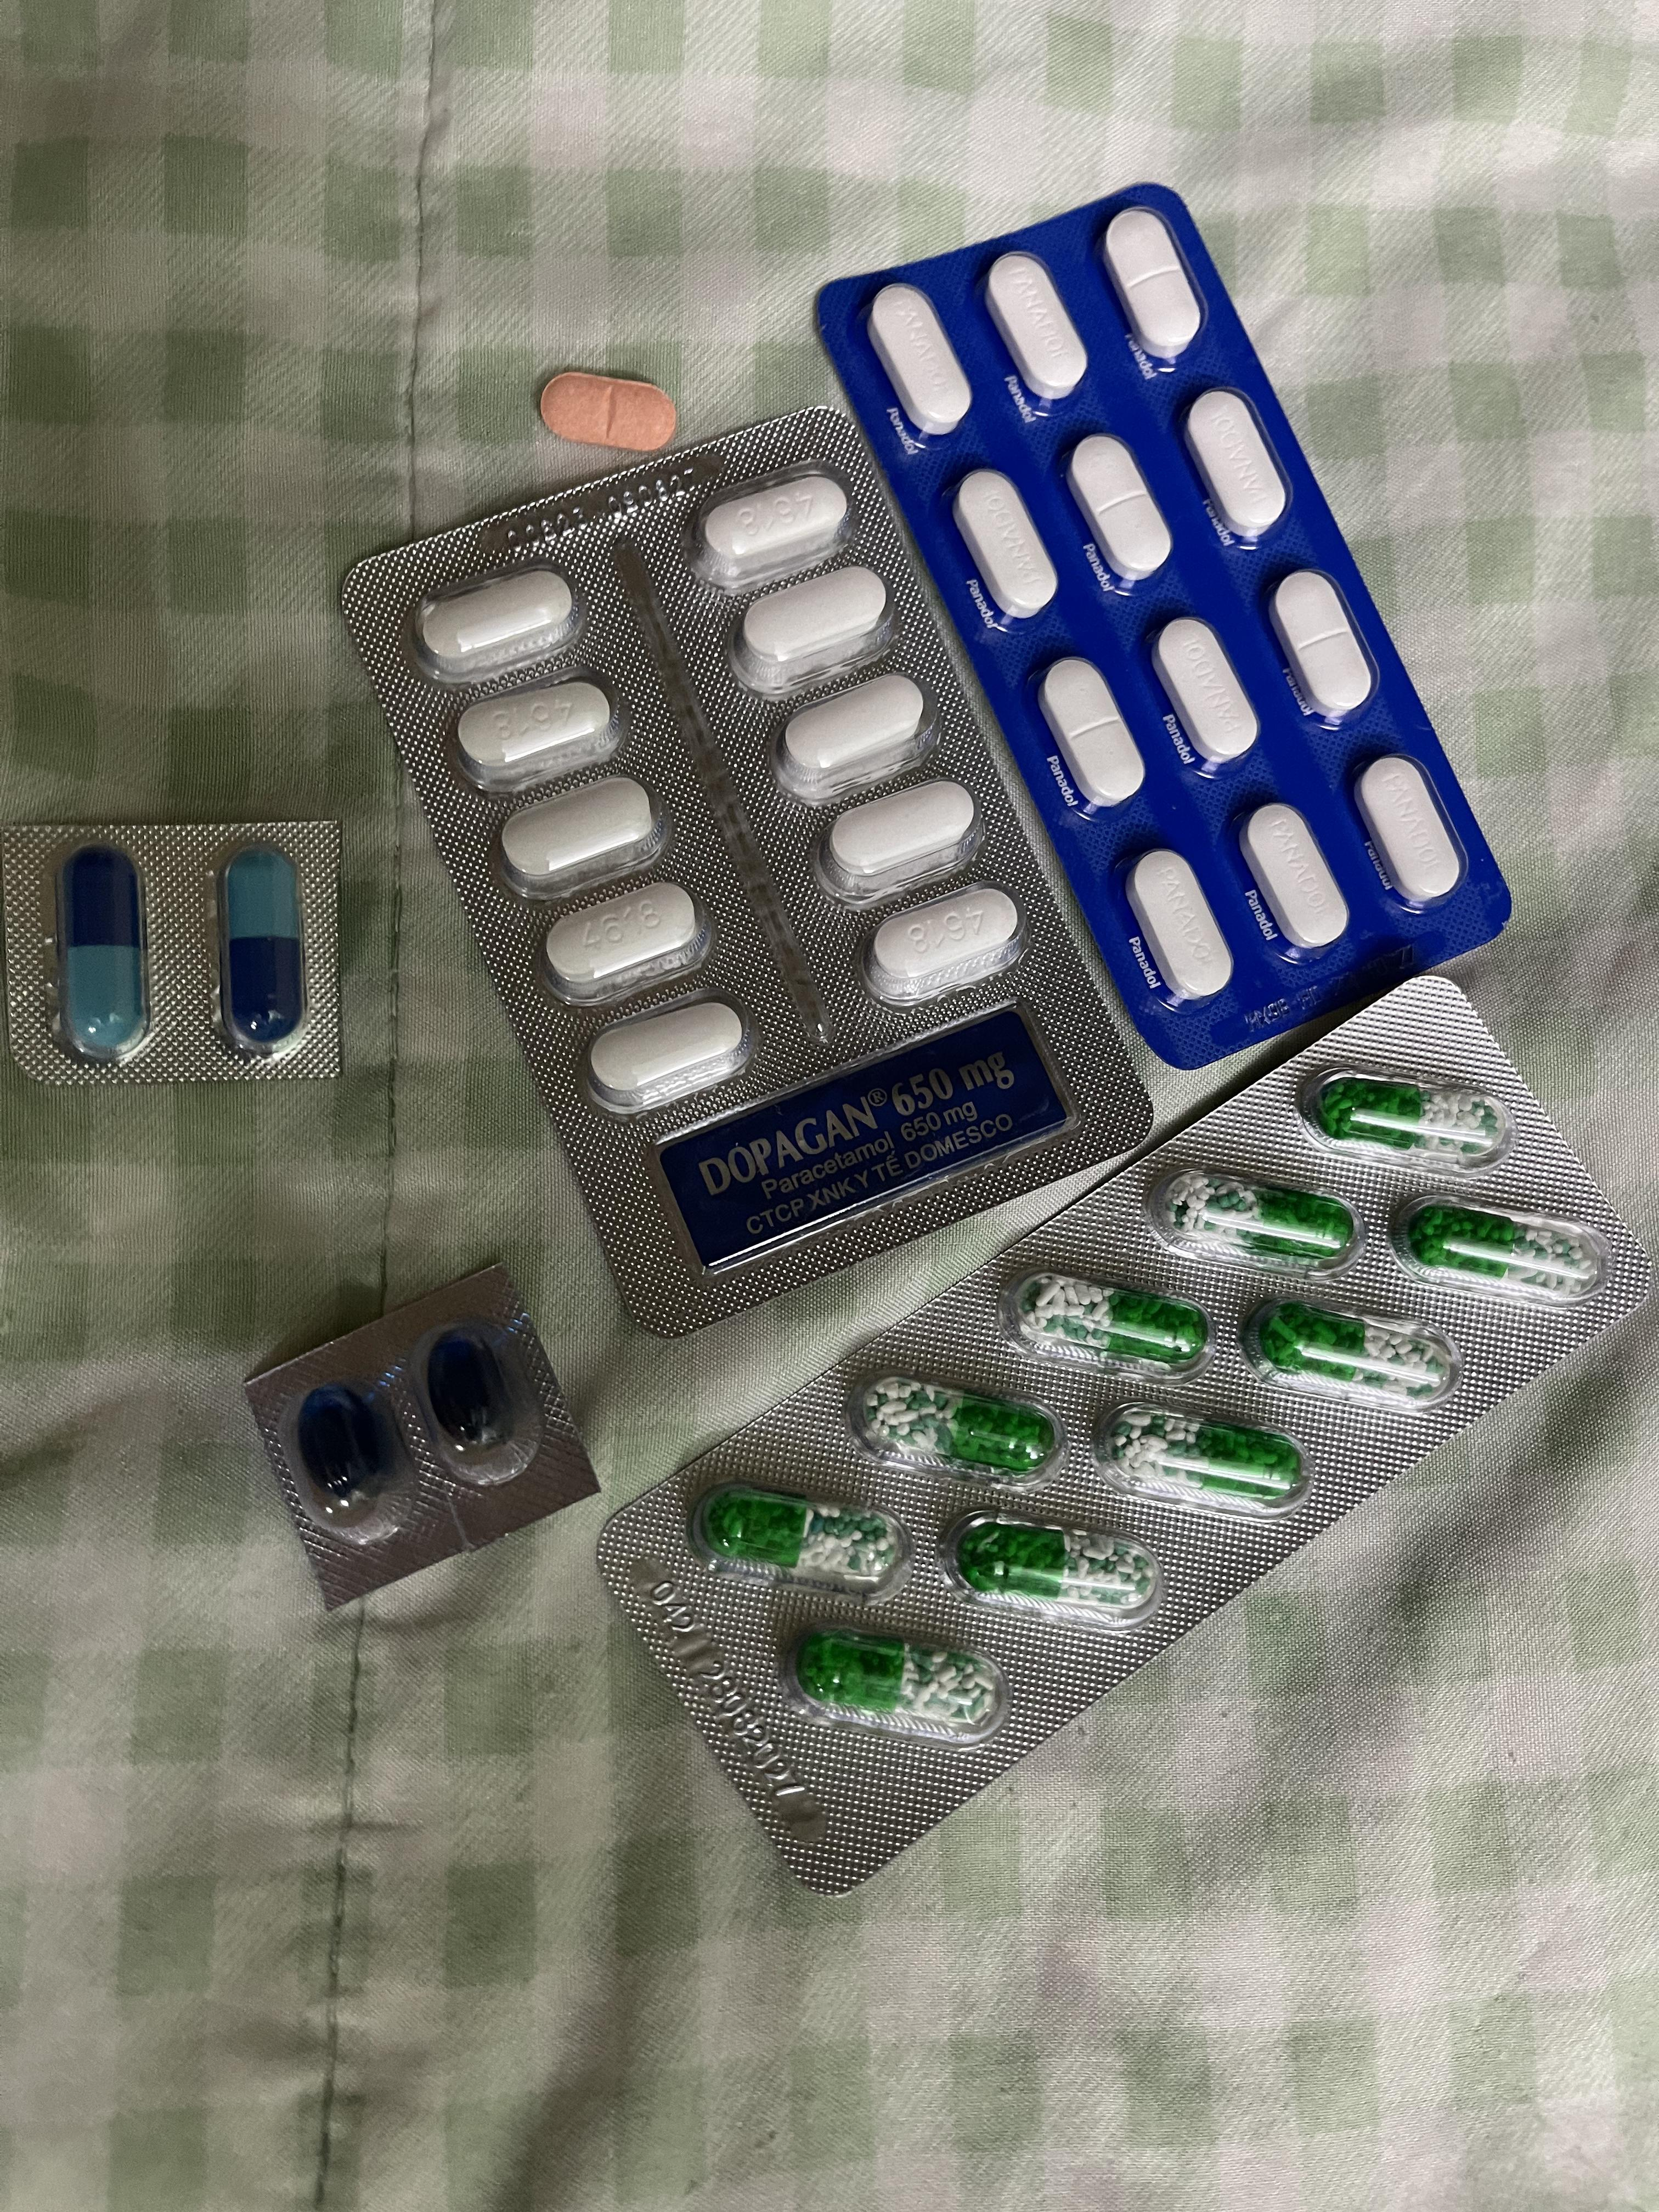Lincomyxin_500mg: (298, 1384, 392, 1511), (426, 1331, 507, 1451)
Loratadine_10mg: (541, 371, 680, 455)
Paracetamol_350mg: (1354, 755, 1465, 907), (1150, 617, 1260, 768), (1238, 803, 1350, 951), (952, 471, 1061, 622), (1039, 657, 1147, 809), (1180, 391, 1289, 542), (983, 253, 1089, 407), (1125, 851, 1233, 1001), (1269, 571, 1376, 721), (1066, 435, 1172, 583), (867, 286, 969, 438), (1102, 207, 1203, 359)
Paracetamol_500mg: (498, 773, 662, 900), (545, 874, 704, 1000), (861, 880, 1017, 1005), (458, 678, 624, 794), (822, 777, 975, 901), (735, 569, 882, 692), (588, 1000, 752, 1110), (416, 568, 575, 681), (781, 678, 926, 799), (698, 477, 837, 583)
Paracetamol_650mg: (1398, 1195, 1611, 1302), (1245, 1300, 1457, 1407), (1096, 1406, 1306, 1513), (797, 1633, 996, 1730), (716, 1492, 902, 1584), (960, 1523, 1158, 1607), (1017, 1278, 1204, 1362), (867, 1381, 1048, 1465), (1170, 1181, 1353, 1264), (1313, 1079, 1499, 1152)
pill: (53, 844, 152, 1069), (214, 843, 310, 1065)
